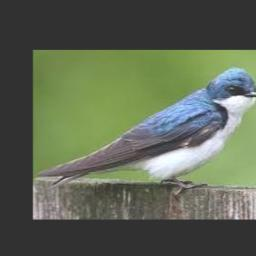Swallow: (37, 66, 256, 190)
